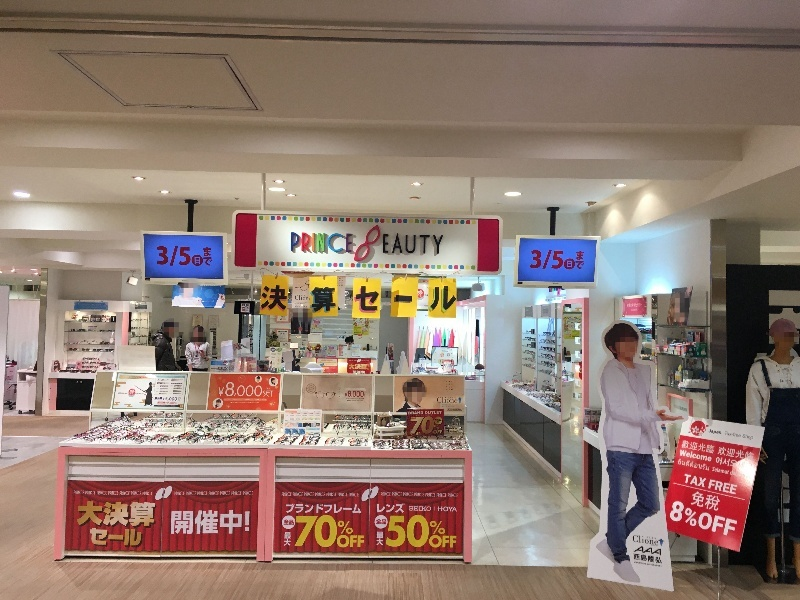text: (673, 501, 688, 539), (689, 501, 704, 539), (705, 501, 720, 539), (721, 501, 736, 539), (353, 515, 369, 549), (305, 515, 320, 549), (321, 515, 336, 549), (337, 515, 352, 549), (401, 515, 416, 549), (417, 515, 432, 549), (433, 515, 448, 549), (273, 283, 288, 314), (289, 283, 304, 314), (305, 283, 320, 314), (321, 283, 336, 314), (337, 283, 352, 314), (353, 283, 368, 314), (369, 283, 384, 314), (385, 283, 400, 314), (401, 283, 416, 314), (417, 283, 432, 314), (433, 283, 448, 314), (81, 500, 96, 528), (97, 500, 112, 528), (113, 500, 128, 528), (129, 500, 144, 528), (449, 515, 461, 549), (177, 510, 192, 536), (193, 510, 208, 536), (209, 510, 224, 536), (225, 510, 240, 536), (337, 232, 353, 254), (705, 491, 721, 513), (390, 515, 400, 549), (145, 500, 157, 528), (289, 232, 304, 254), (305, 232, 320, 254), (321, 232, 336, 254), (385, 233, 400, 255), (401, 233, 416, 255), (417, 233, 432, 255), (161, 246, 176, 267), (177, 246, 192, 267), (193, 246, 208, 267), (97, 527, 112, 548), (113, 527, 128, 548), (262, 283, 272, 314), (545, 250, 560, 270), (561, 250, 576, 270), (417, 416, 432, 435), (129, 527, 142, 548), (531, 250, 544, 270), (241, 510, 251, 536), (225, 381, 240, 398), (241, 381, 256, 398), (257, 381, 272, 398), (161, 378, 176, 395), (433, 233, 444, 255), (693, 491, 704, 513), (721, 447, 736, 463), (737, 447, 752, 463), (721, 456, 736, 472), (721, 479, 736, 495), (354, 318, 368, 335), (297, 515, 304, 549), (433, 416, 445, 435), (692, 419, 704, 438), (689, 440, 704, 455), (737, 456, 751, 472), (449, 283, 456, 314), (721, 466, 736, 480), (689, 474, 704, 488), (689, 450, 704, 463), (689, 459, 704, 472), (577, 250, 586, 270), (641, 534, 656, 546), (289, 503, 304, 514), (305, 503, 320, 514), (321, 503, 336, 514), (337, 503, 352, 514), (385, 503, 400, 514), (641, 553, 656, 564), (273, 349, 282, 367), (710, 479, 720, 495), (737, 466, 748, 480), (705, 440, 715, 455), (641, 546, 656, 556), (307, 384, 320, 395), (171, 510, 176, 536), (678, 459, 688, 472), (312, 317, 320, 333), (90, 527, 96, 548), (376, 531, 384, 546), (289, 413, 304, 421), (305, 413, 320, 421), (321, 359, 337, 366), (712, 466, 720, 480), (209, 246, 214, 267), (129, 389, 144, 396), (353, 363, 368, 370), (680, 450, 688, 463), (177, 378, 183, 395), (353, 503, 362, 514), (411, 416, 416, 435), (353, 391, 366, 398), (705, 450, 712, 463), (641, 561, 656, 567), (417, 506, 432, 512), (219, 381, 224, 398), (322, 367, 336, 373), (77, 500, 80, 528), (633, 534, 640, 546), (377, 503, 384, 514), (633, 553, 640, 564), (725, 431, 736, 438), (705, 419, 709, 438), (683, 440, 688, 455), (81, 304, 96, 309), (626, 303, 640, 308), (710, 429, 720, 436), (437, 397, 448, 403), (437, 506, 448, 512), (163, 396, 176, 401), (705, 459, 710, 472), (243, 491, 256, 496), (716, 456, 720, 472), (157, 246, 160, 267), (743, 434, 752, 441), (353, 370, 368, 374), (436, 419, 448, 424), (404, 493, 416, 498), (209, 492, 224, 496), (97, 491, 112, 495), (434, 507, 448, 511), (338, 493, 352, 497), (401, 503, 406, 514), (657, 553, 662, 564), (437, 493, 448, 498), (449, 397, 458, 403), (295, 295, 304, 301), (295, 302, 304, 308), (131, 492, 144, 496), (157, 378, 160, 395), (657, 546, 662, 556), (345, 391, 352, 398), (376, 519, 384, 525), (449, 506, 457, 512), (285, 531, 288, 546), (289, 531, 292, 546), (369, 321, 384, 324), (449, 493, 458, 498), (382, 233, 384, 255), (293, 493, 304, 497), (289, 519, 295, 526), (409, 506, 416, 512), (685, 474, 688, 488), (392, 492, 400, 497), (198, 492, 208, 496), (86, 491, 96, 495), (120, 491, 128, 496), (243, 304, 256, 307), (243, 307, 256, 310), (737, 501, 738, 539), (634, 561, 640, 567), (433, 411, 442, 415), (305, 493, 314, 497), (327, 493, 336, 497), (283, 519, 288, 526), (97, 304, 104, 309), (737, 431, 742, 438), (273, 381, 275, 398), (117, 392, 128, 395), (321, 317, 323, 333), (417, 493, 425, 497), (177, 492, 185, 496), (232, 492, 240, 496), (145, 492, 153, 496), (657, 561, 662, 567), (241, 402, 256, 404), (305, 295, 310, 301), (282, 492, 288, 497), (385, 492, 391, 497), (425, 411, 432, 415), (705, 474, 707, 488), (167, 401, 176, 404), (449, 409, 462, 411), (657, 534, 659, 546), (408, 412, 416, 415), (353, 493, 359, 497), (426, 493, 432, 497), (186, 492, 192, 496), (74, 491, 80, 495), (113, 491, 119, 495), (286, 503, 288, 514), (349, 363, 352, 370), (417, 412, 424, 415), (177, 396, 181, 401), (315, 493, 320, 497), (321, 493, 326, 497), (225, 492, 230, 496), (135, 393, 144, 395), (231, 402, 240, 404), (271, 349, 272, 367), (305, 302, 308, 308), (719, 447, 720, 463), (753, 447, 754, 463), (737, 479, 738, 495), (193, 492, 197, 496), (220, 492, 224, 496), (108, 491, 112, 495), (641, 303, 644, 308), (289, 492, 292, 497), (381, 492, 384, 497), (721, 429, 723, 436), (385, 519, 387, 525), (349, 493, 352, 497), (433, 493, 436, 497), (81, 491, 84, 495), (287, 413, 288, 421), (369, 363, 370, 370), (319, 359, 320, 366), (753, 434, 754, 441), (257, 402, 260, 404), (401, 492, 402, 497), (129, 491, 130, 496), (415, 493, 416, 497), (175, 492, 176, 496), (241, 492, 242, 496), (143, 492, 144, 496)
